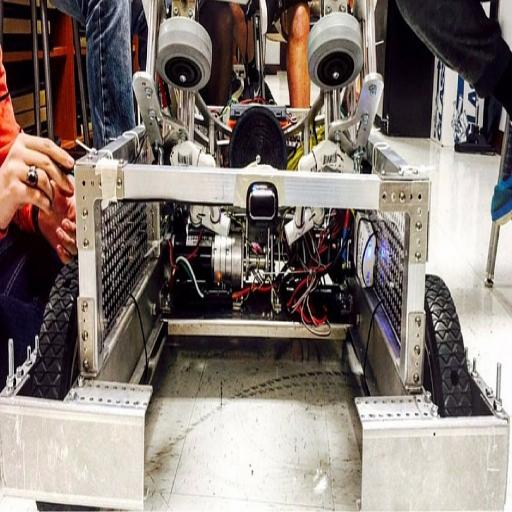robot: (3, 18, 506, 506)
